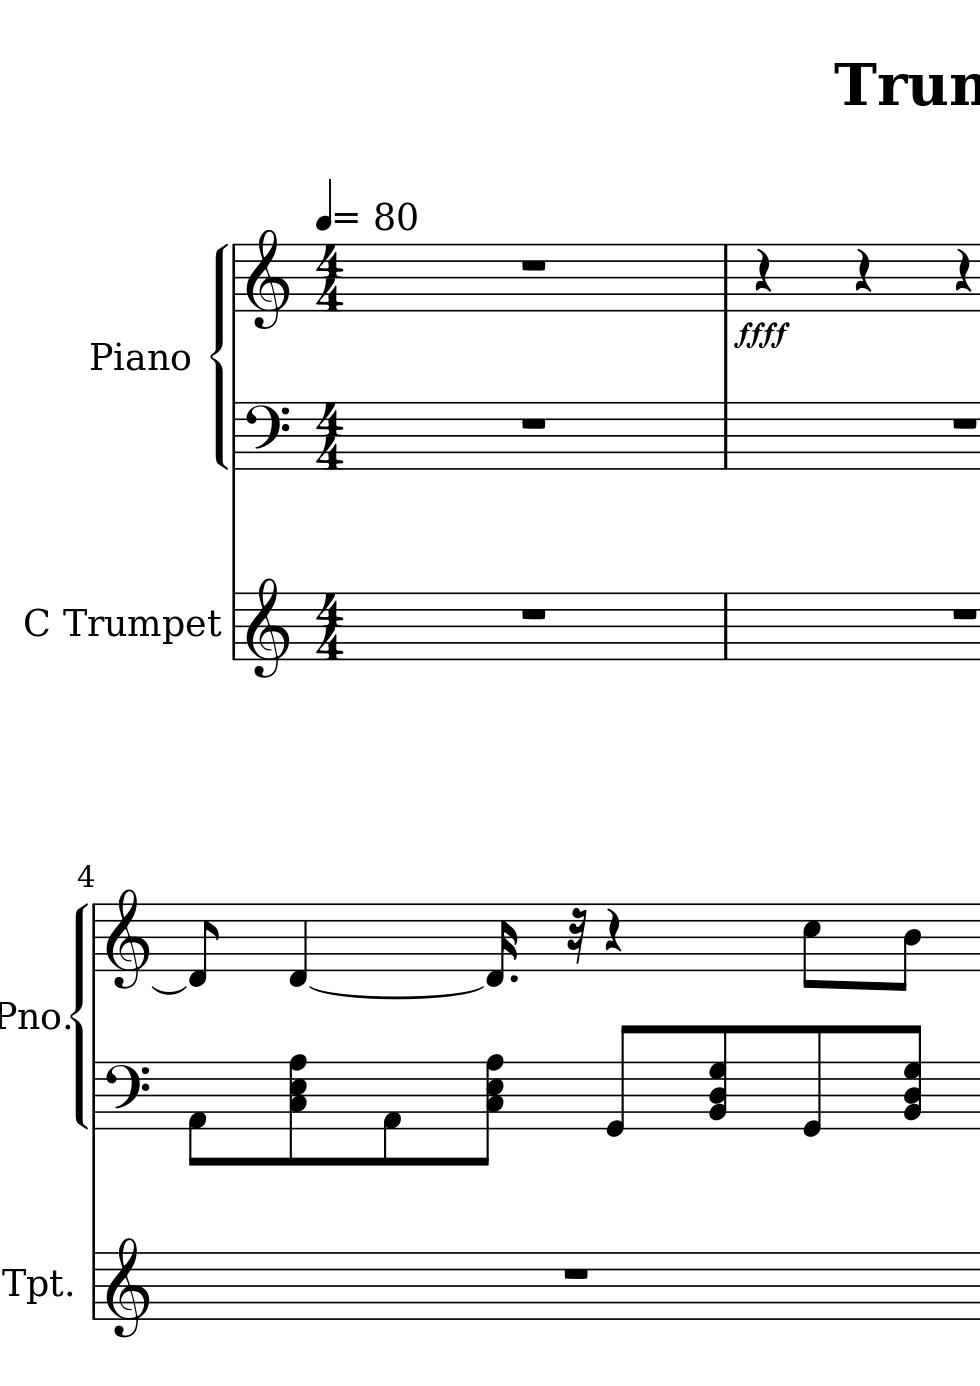0: (395, 198, 418, 233)
16_-1: (483, 901, 517, 988)
4: (314, 591, 345, 628), (314, 400, 344, 438), (314, 243, 345, 279), (314, 437, 346, 470), (314, 627, 346, 660), (314, 279, 346, 311), (76, 863, 97, 890)
4_-1: (286, 901, 309, 988)
8: (372, 199, 395, 233)
8_-1: (186, 902, 220, 990)
8_0: (602, 1023, 637, 1139), (800, 1023, 824, 1139)
8_1: (379, 1060, 402, 1166), (186, 1060, 207, 1168)
8_4: (891, 901, 923, 993)
8_5: (800, 901, 823, 992)
8_th: (474, 1052, 506, 1170), (284, 1050, 314, 1166), (702, 1023, 733, 1134), (896, 1022, 926, 1136)
Brace: (210, 239, 230, 476), (69, 900, 87, 1136)
Fclef: (102, 1058, 151, 1129), (243, 400, 290, 472)
Gclef: (244, 575, 290, 680), (104, 887, 150, 990), (244, 227, 290, 330), (104, 1234, 148, 1339)
Pno: (86, 339, 195, 372), (1, 997, 62, 1034)
Rests1: (517, 255, 550, 274), (517, 413, 549, 432), (559, 1264, 592, 1283), (517, 604, 550, 622), (948, 604, 978, 622), (949, 414, 978, 432)
Rests32: (565, 907, 588, 966)
Rests4: (749, 248, 775, 294), (851, 247, 874, 296), (950, 246, 973, 294), (602, 907, 623, 957)
Single_barline: (716, 403, 734, 469), (717, 593, 734, 660), (717, 245, 733, 311), (227, 244, 242, 312), (87, 903, 102, 971), (227, 593, 241, 661), (88, 1063, 102, 1129), (87, 1253, 101, 1320), (228, 403, 241, 469)
Slur: (309, 984, 486, 1002), (150, 983, 188, 996)
Speed4: (315, 176, 362, 231)
Speed_4=80: (314, 178, 422, 234)
TimeSig: (313, 591, 348, 659), (314, 242, 347, 311), (314, 401, 347, 470)
Tpt: (2, 1262, 64, 1306)
dot: (507, 972, 519, 985)
ffff: (731, 318, 794, 355)
